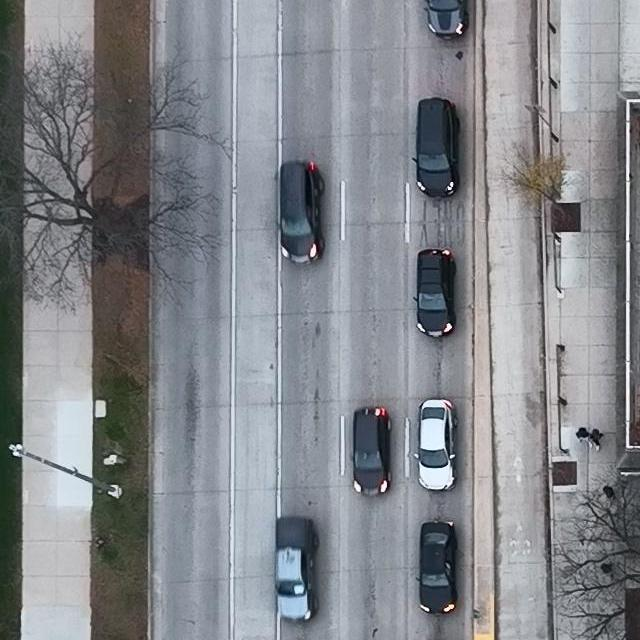car: (275, 159, 324, 263), (274, 516, 318, 622), (412, 98, 459, 197), (413, 519, 459, 614), (413, 249, 458, 339), (349, 405, 393, 497), (415, 397, 456, 492), (424, 0, 471, 38)
